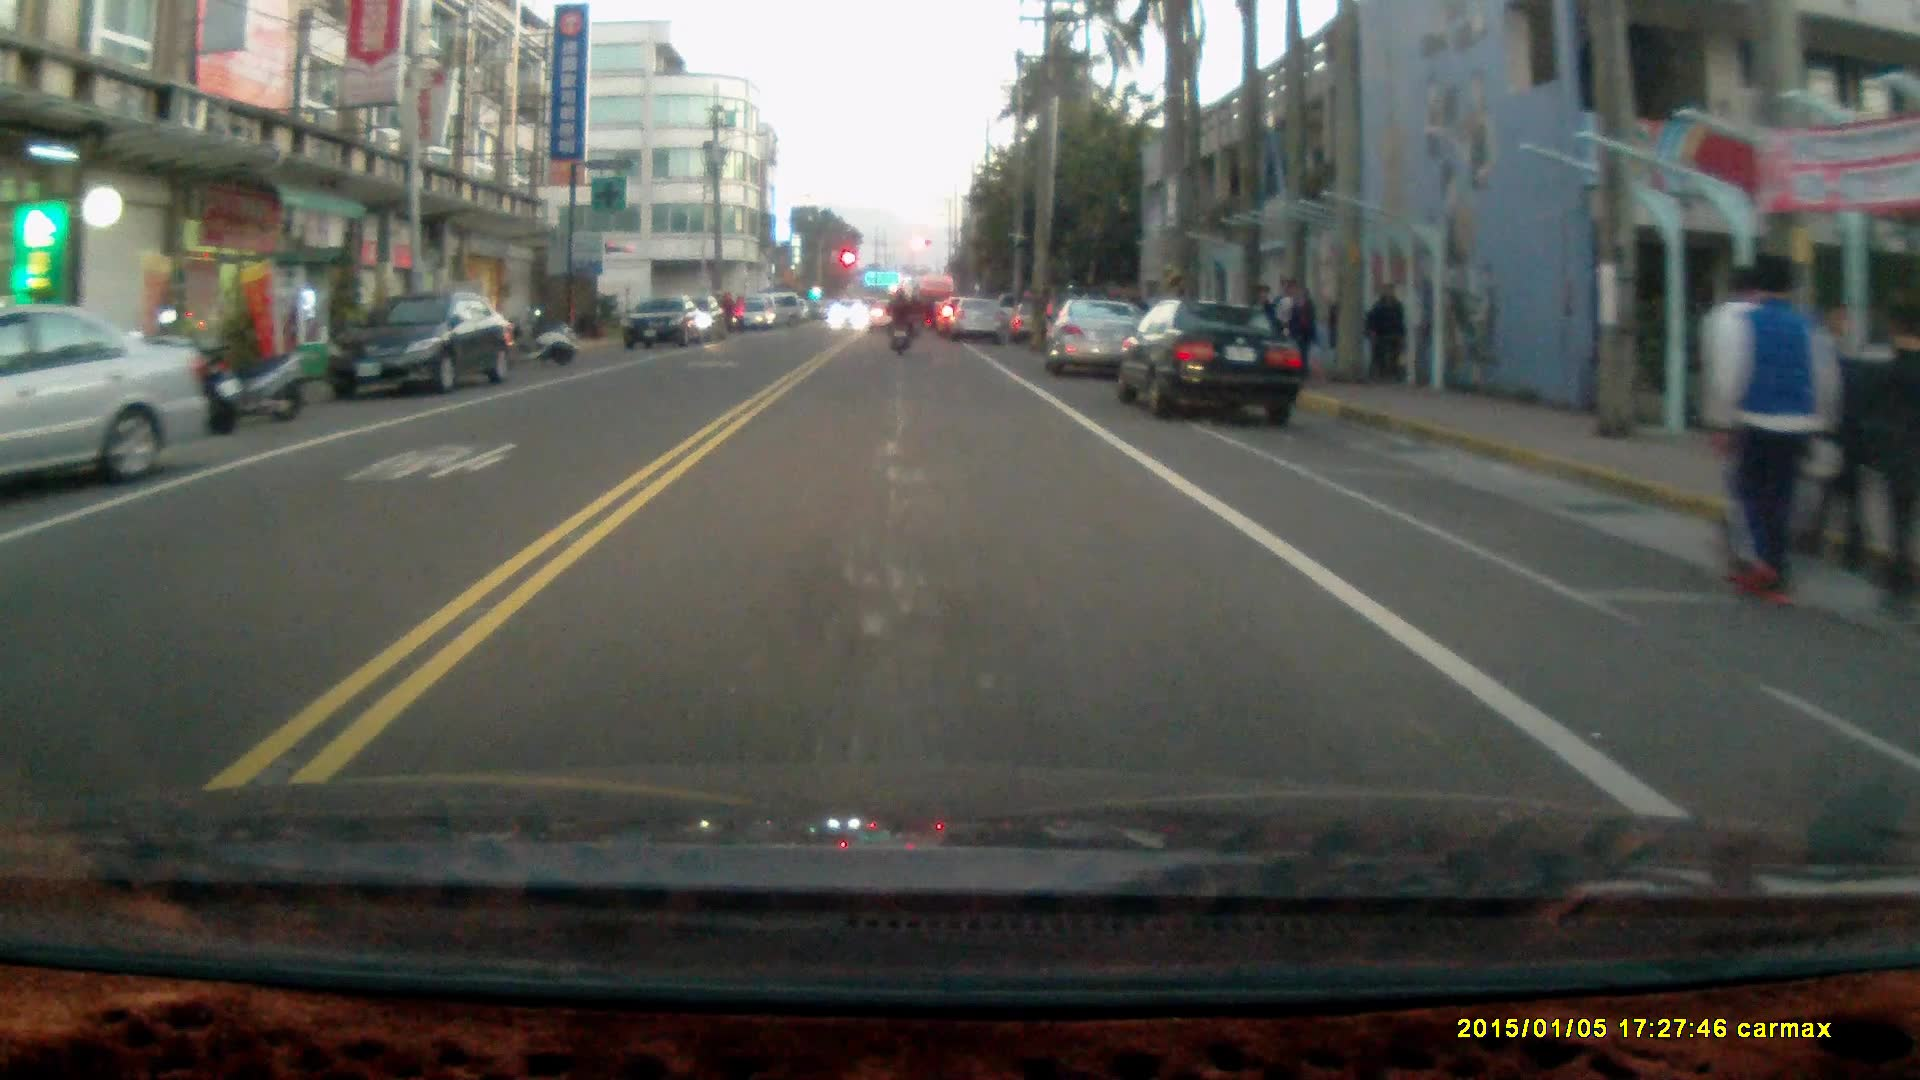pedestrian: (1694, 256, 1840, 607), (1856, 305, 1920, 602), (1363, 280, 1408, 388), (1281, 283, 1318, 377)
rider: (882, 283, 913, 355)
vehicle: (1, 304, 209, 497), (1116, 292, 1307, 423), (328, 289, 512, 401), (1045, 293, 1152, 376), (623, 298, 720, 354), (956, 294, 1011, 341)
